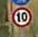limite 10: (10, 6, 32, 28)
limite 40: (10, 6, 32, 28)
